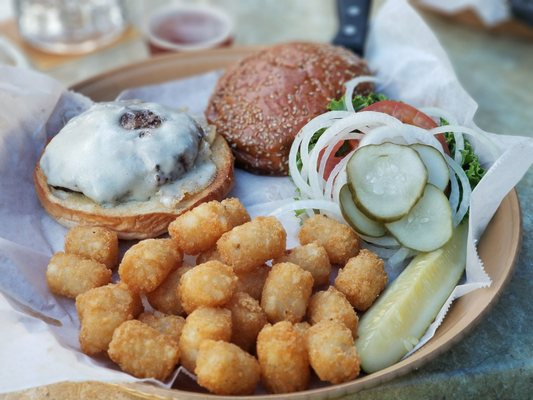sushi: (144, 1, 235, 55)
